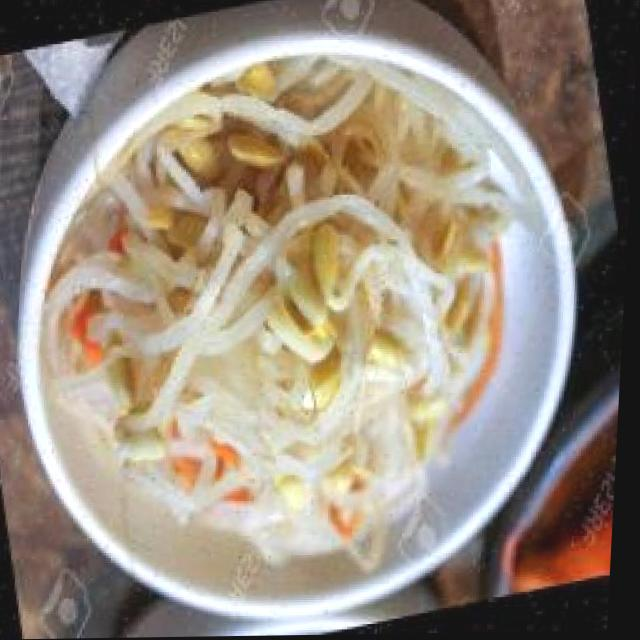mung_bean_sprouts: (42, 69, 555, 562)
